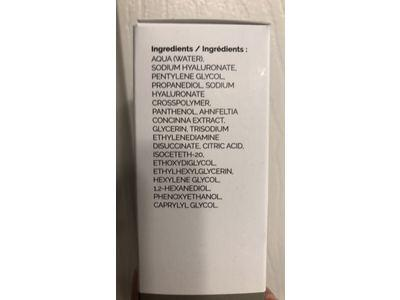ingredients: (148, 41, 257, 214)
